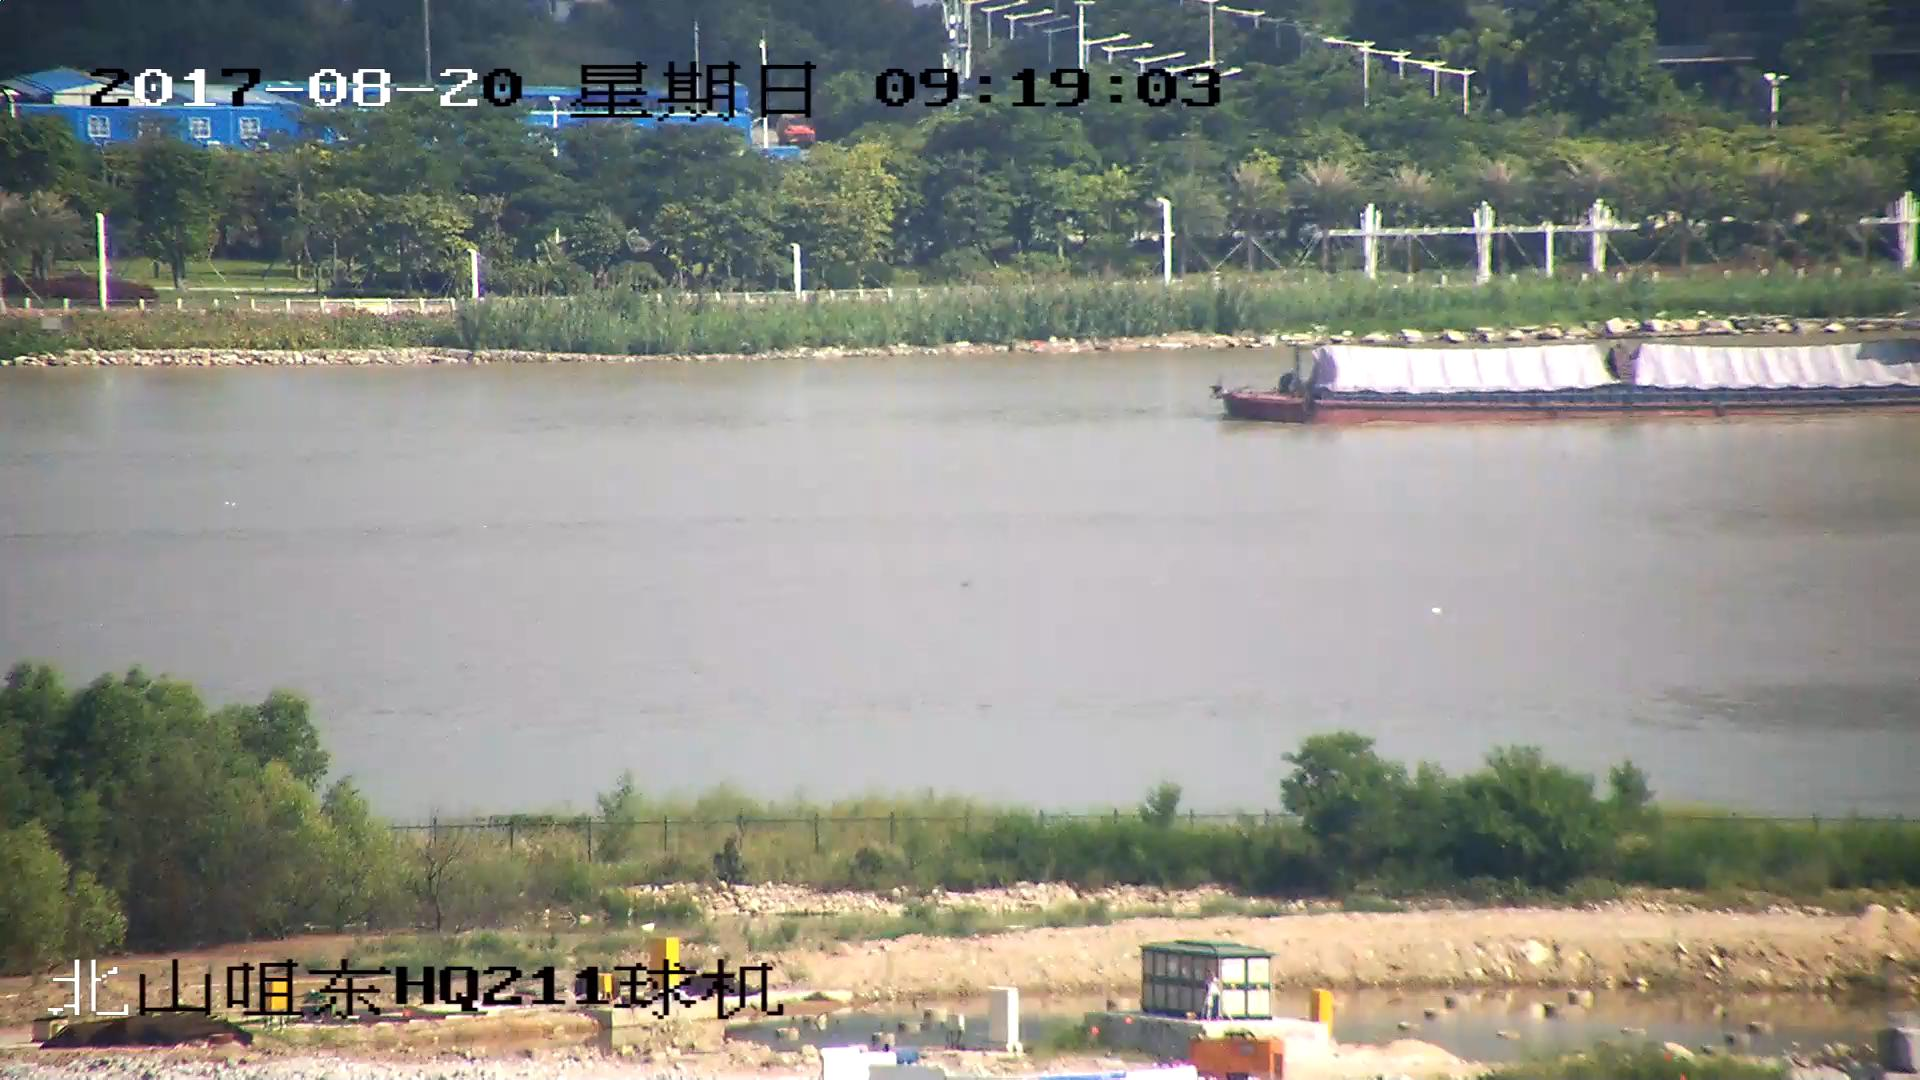general cargo ship: (1225, 334, 1920, 418)
